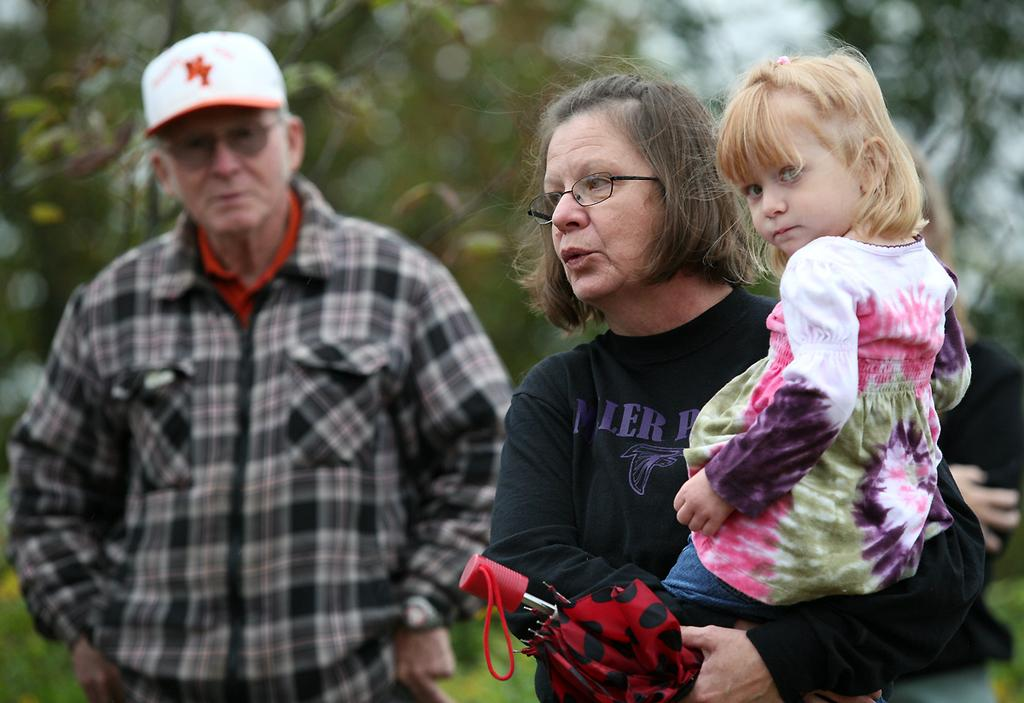Hat: (142, 27, 288, 140)
